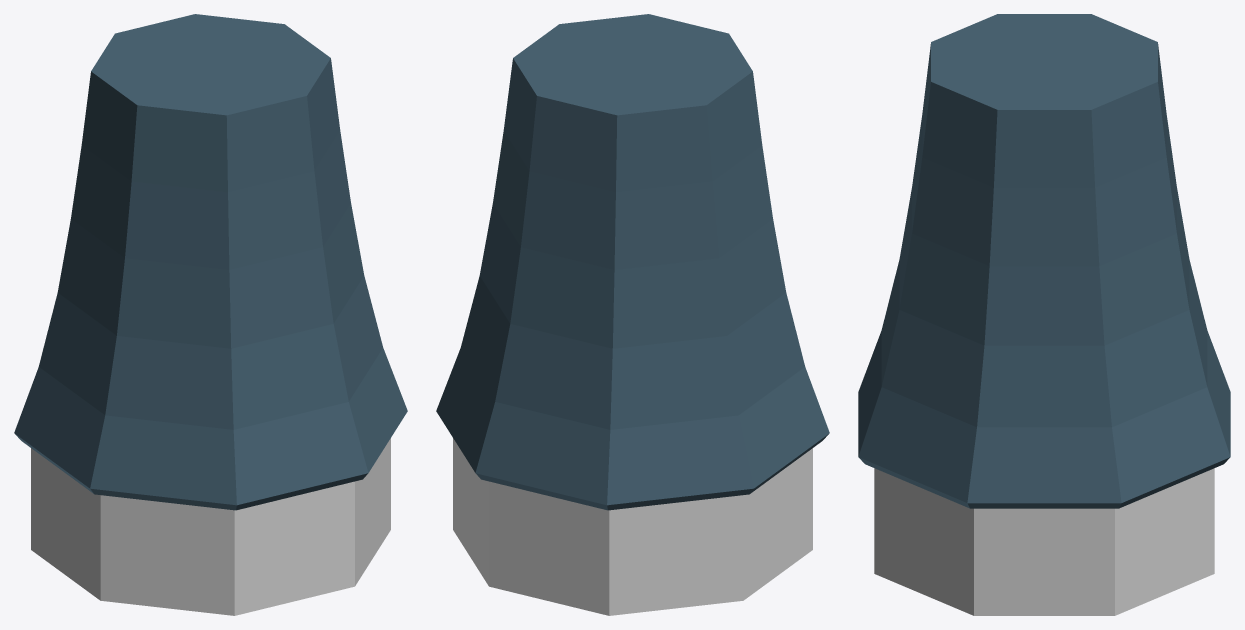
File: windmill_base.dae
3 views of the same model, side by side, from view 1: azimuth 30°, elevation 25°; view 2: azimuth 150°, elevation 25°; view 3: azimuth 270°, elevation 25° (orthographic).
Parts seen in each view (by area): view 1: Windmill_base_001; view 2: Windmill_base_001; view 3: Windmill_base_001.
Boxes of the visible parts, bbox=[...] form: Windmill_base_001: bbox=[14, 14, 407, 615]; Windmill_base_001: bbox=[436, 14, 829, 615]; Windmill_base_001: bbox=[858, 14, 1230, 615].
Size of the model in its own units: 0.9096 by 0.9096 by 1.3.
